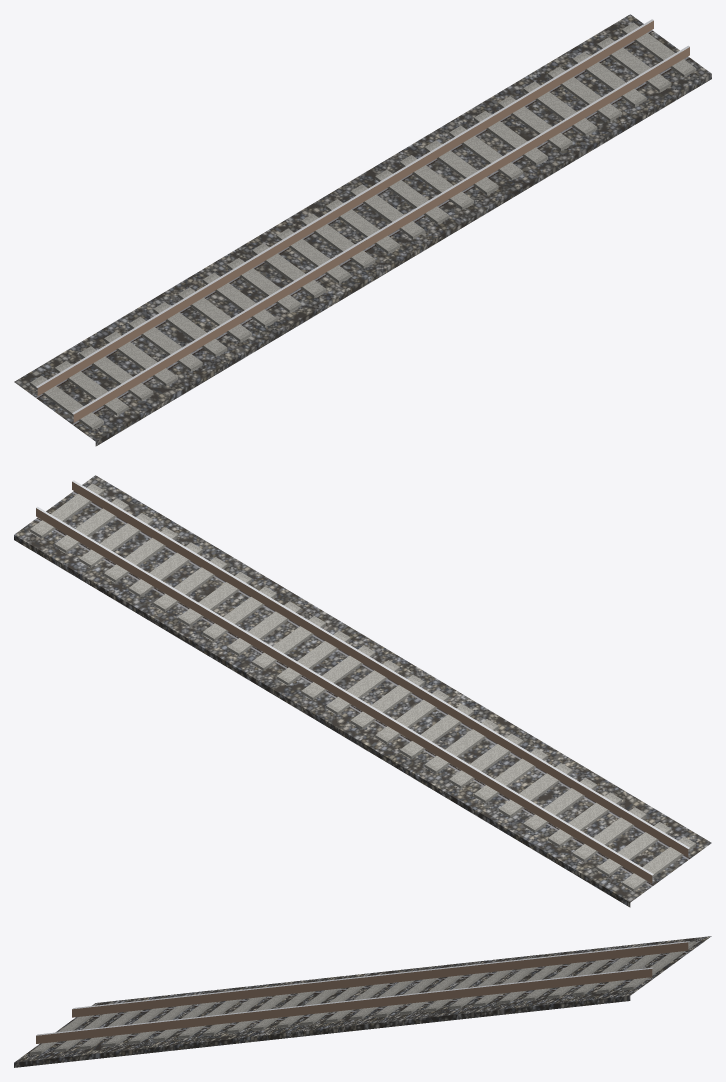
The model's file is kolej_svah_oci_beton.glb.
3 renders of one model, top to bottom at view 1: azimuth 30°, elevation 25°; view 2: azimuth 150°, elevation 25°; view 3: azimuth 330°, elevation 25°, orthographic.
Visible parts, largest first — view 1: kolej_svah_oci_beton; view 2: kolej_svah_oci_beton; view 3: kolej_svah_oci_beton.
Part boxes in pixels (bbox=[...]): kolej_svah_oci_beton: bbox=[14, 14, 711, 446]; kolej_svah_oci_beton: bbox=[14, 475, 711, 907]; kolej_svah_oci_beton: bbox=[14, 936, 711, 1067].
Bounding box in the file's own units: 14.84 × 5.37 × 3.4.
Materials: 4 (2 with a texture image).
